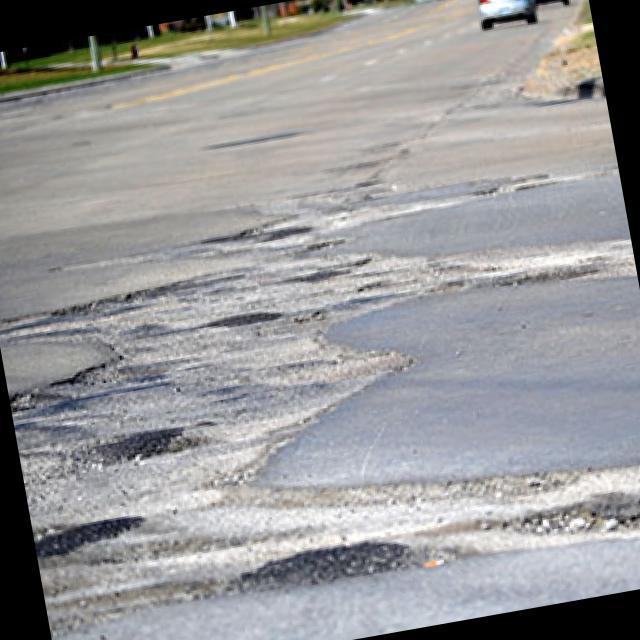Pothole: (246, 515, 417, 609), (501, 480, 640, 560), (39, 499, 153, 572), (42, 276, 180, 328), (101, 411, 198, 476), (206, 211, 322, 257), (57, 352, 146, 400), (489, 260, 592, 300), (213, 298, 285, 339)
